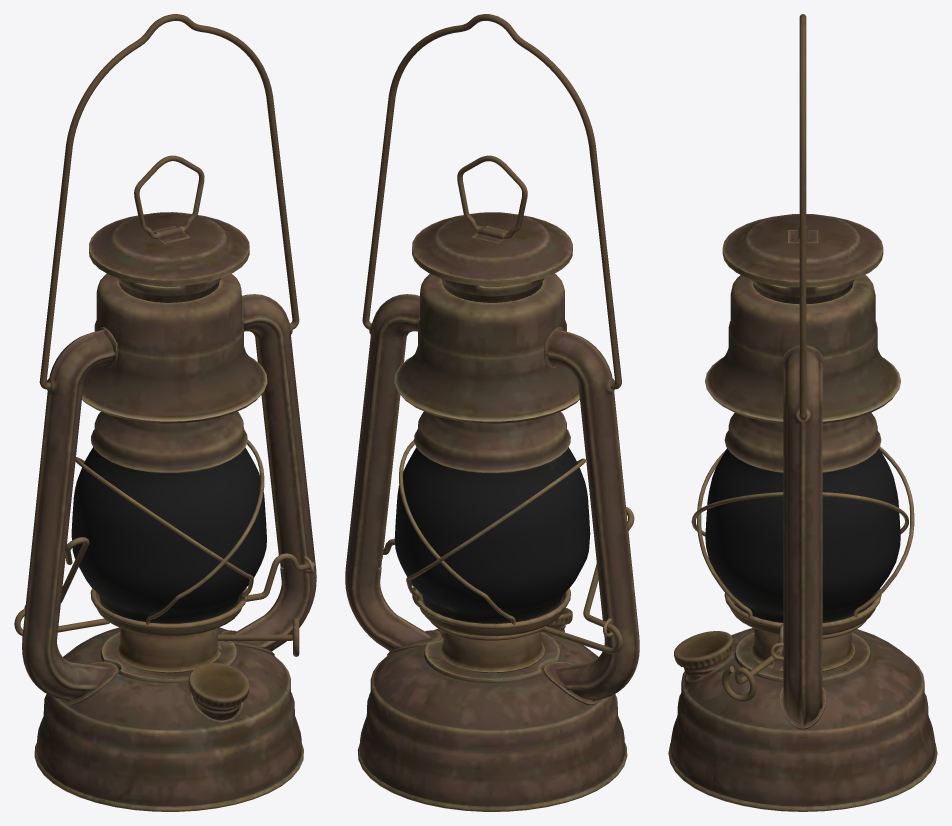
The model's file is Lantern_01.glb.
3 renders of one model, left to right at view 1: azimuth 30°, elevation 25°; view 2: azimuth 150°, elevation 25°; view 3: azimuth 270°, elevation 25°, orthographic.
Visible parts, largest first — view 1: Lantern_01, Lantern_01_glass; view 2: Lantern_01, Lantern_01_glass; view 3: Lantern_01, Lantern_01_glass.
Part boxes in pixels (x1,y1,x2,y2): Lantern_01: (14,14,316,811); Lantern_01_glass: (71,447,266,623); Lantern_01: (345,14,639,811); Lantern_01_glass: (394,447,590,623); Lantern_01: (668,14,937,811); Lantern_01_glass: (705,448,900,622).
Bounding box in the file's own units: 0.1221 × 0.2942 × 0.0972.
Materials: 2 (2 with a texture image).
